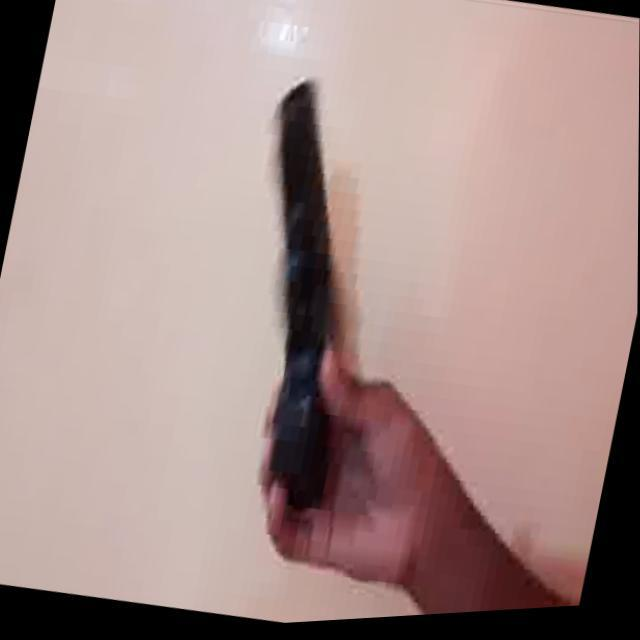weapon: (200, 70, 420, 540)
